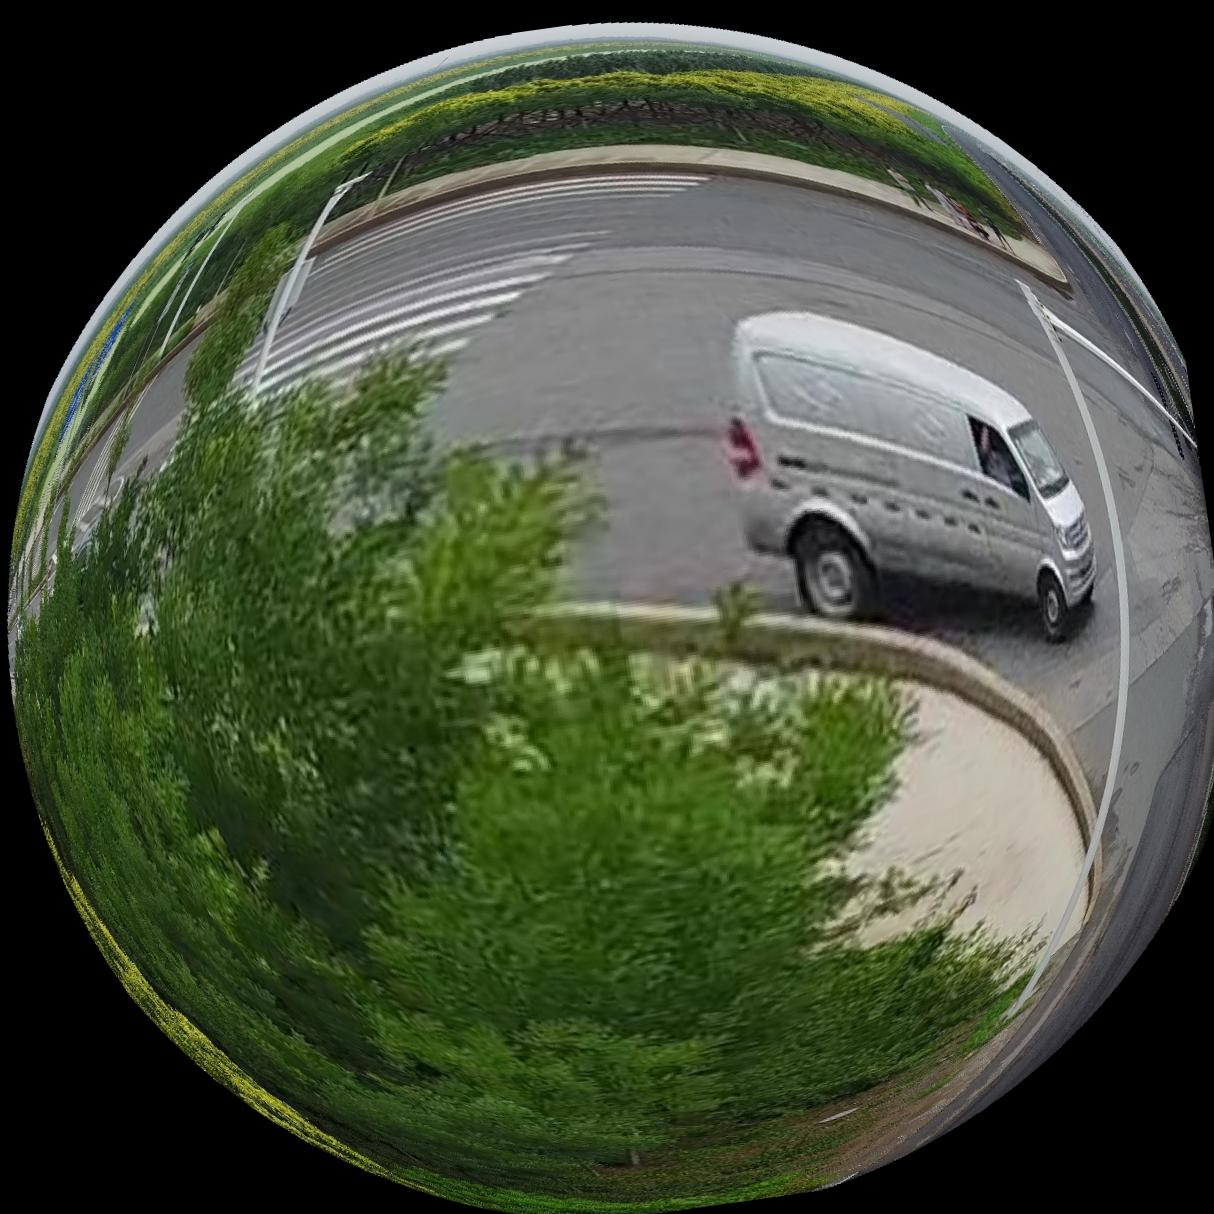cars: (725, 309, 1103, 637)
trees: (18, 357, 1025, 1214), (16, 24, 1072, 539), (186, 221, 296, 411)
